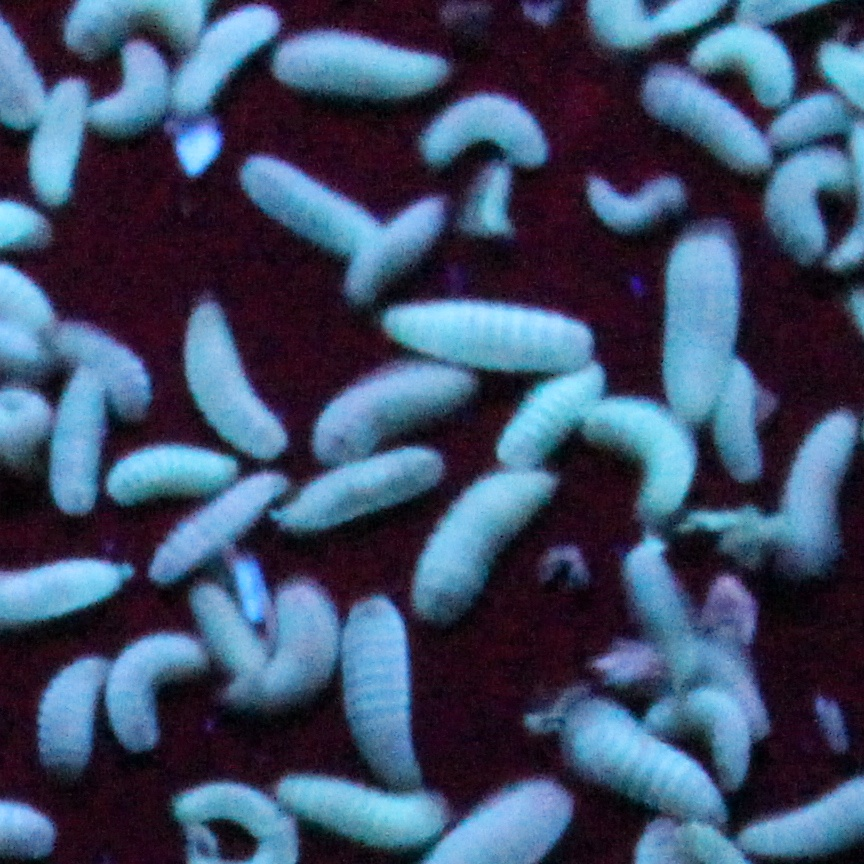larve: (412, 473, 561, 624), (554, 703, 726, 819), (183, 292, 293, 458), (378, 290, 595, 373), (317, 360, 478, 468), (338, 597, 422, 783), (578, 392, 700, 519), (663, 231, 744, 414), (156, 473, 288, 582), (280, 451, 444, 538), (273, 24, 451, 102), (283, 768, 444, 850), (234, 590, 336, 719), (103, 630, 207, 752), (497, 365, 612, 475), (646, 70, 778, 165), (241, 158, 378, 248), (785, 407, 858, 575), (166, 12, 278, 112), (624, 540, 701, 685), (346, 195, 444, 302), (51, 314, 151, 414), (424, 90, 551, 168), (642, 687, 750, 777), (766, 151, 849, 268), (97, 441, 239, 504), (83, 43, 173, 141), (42, 656, 105, 785), (32, 70, 88, 202), (54, 368, 100, 514), (190, 587, 266, 673), (585, 173, 680, 234), (717, 370, 766, 480), (473, 168, 512, 241)
